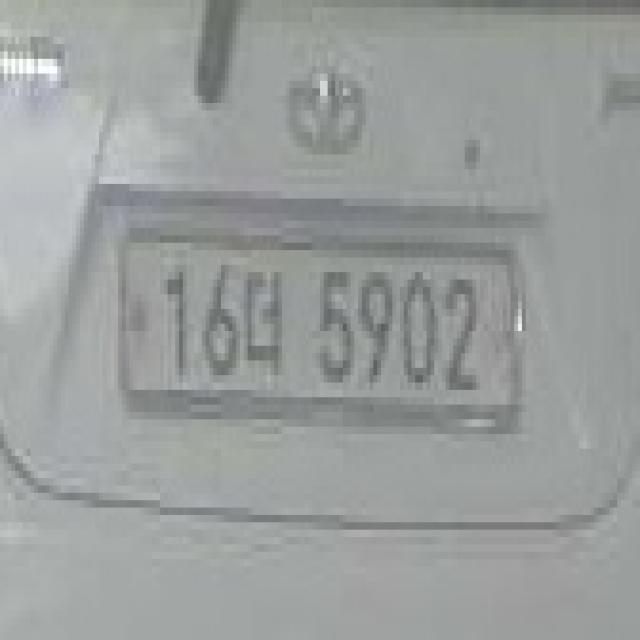0: (396, 258, 442, 398)
1: (156, 243, 194, 397)
2: (442, 264, 484, 404)
5: (312, 258, 354, 398)
6: (198, 250, 240, 390)
9: (354, 258, 396, 398)
deo: (240, 258, 290, 398)
license_plate: (107, 221, 530, 441)
